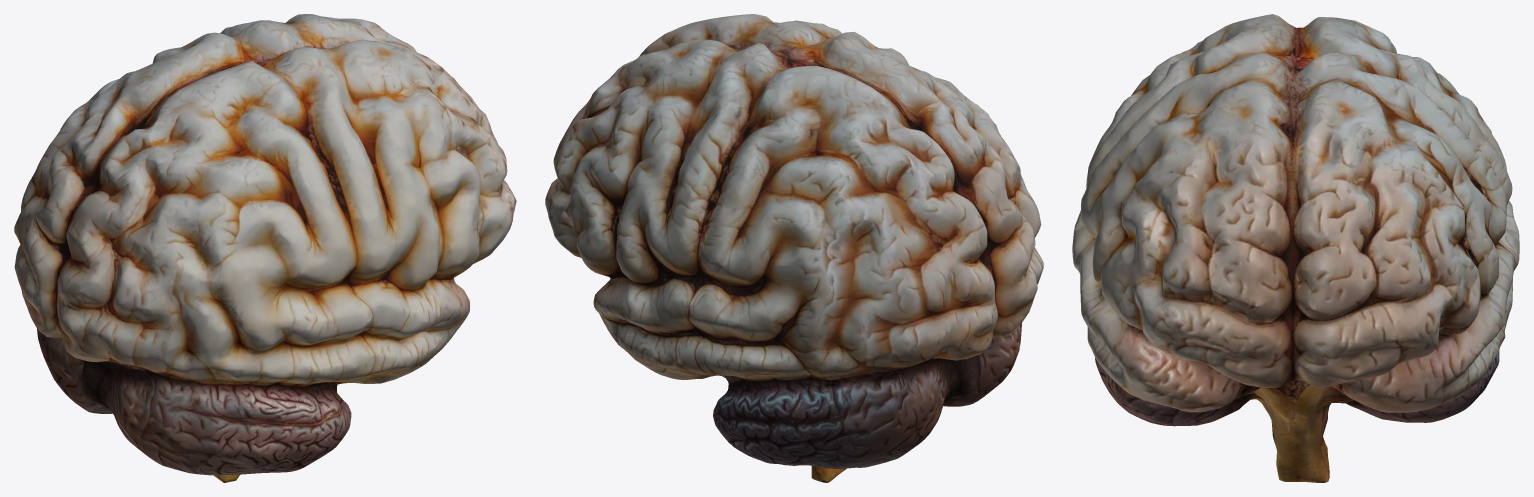
Rendered from brain_3d.glb.
3 views of the same model, side by side, from view 1: azimuth 30°, elevation 25°; view 2: azimuth 150°, elevation 25°; view 3: azimuth 270°, elevation 25° (orthographic). The views are drawn at different scales.
Visible parts, largest first — view 1: Object_4; view 2: Object_4; view 3: Object_4.
Part boxes in pixels (bbox=[...]): Object_4: bbox=[14, 14, 516, 482]; Object_4: bbox=[545, 14, 1043, 482]; Object_4: bbox=[1072, 14, 1519, 482].
Size of the model in its own units: 1.2 by 1.13 by 1.
1 material, 1 textured.
